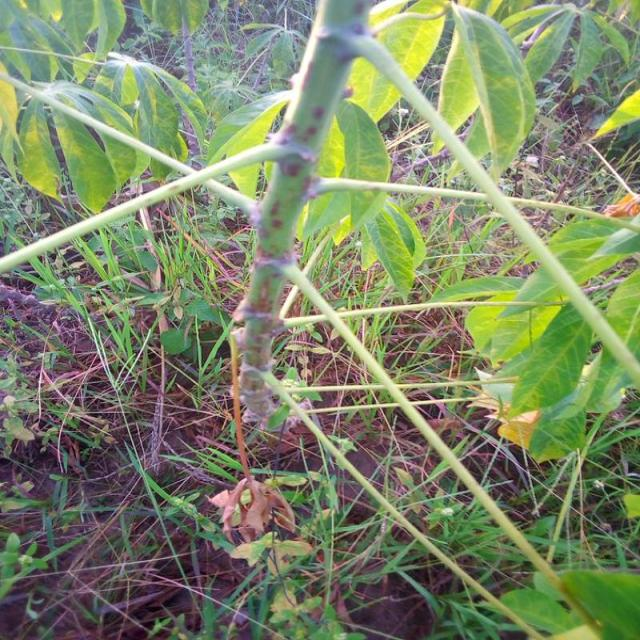cassava leaf: (465, 211, 638, 462), (431, 2, 536, 185), (294, 96, 392, 244), (340, 0, 446, 124)
